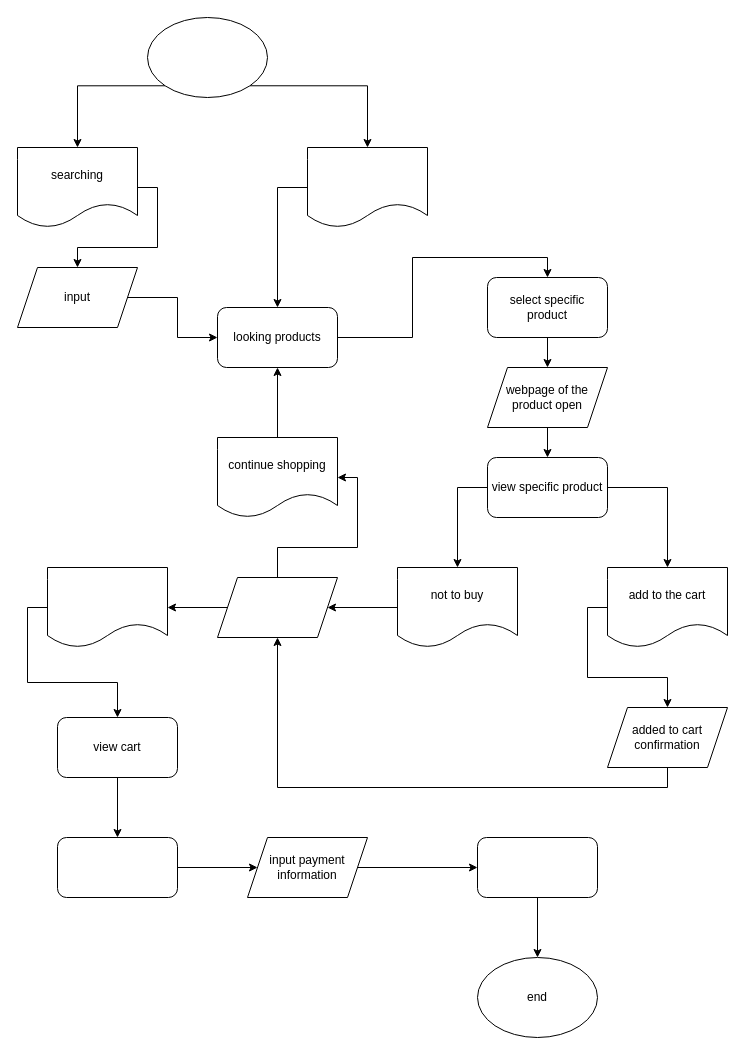
This 745x1055 diagram has some shape labels left out. Here are the shapes that lost their labels. From the top down, the box of each, then its label:
(146, 16, 268, 98): begin
(306, 146, 428, 228): exploring
(46, 566, 168, 648): checkout
(216, 576, 338, 638): webpage of the product close
(56, 836, 178, 898): view payment
(476, 836, 598, 898): confimation and email
